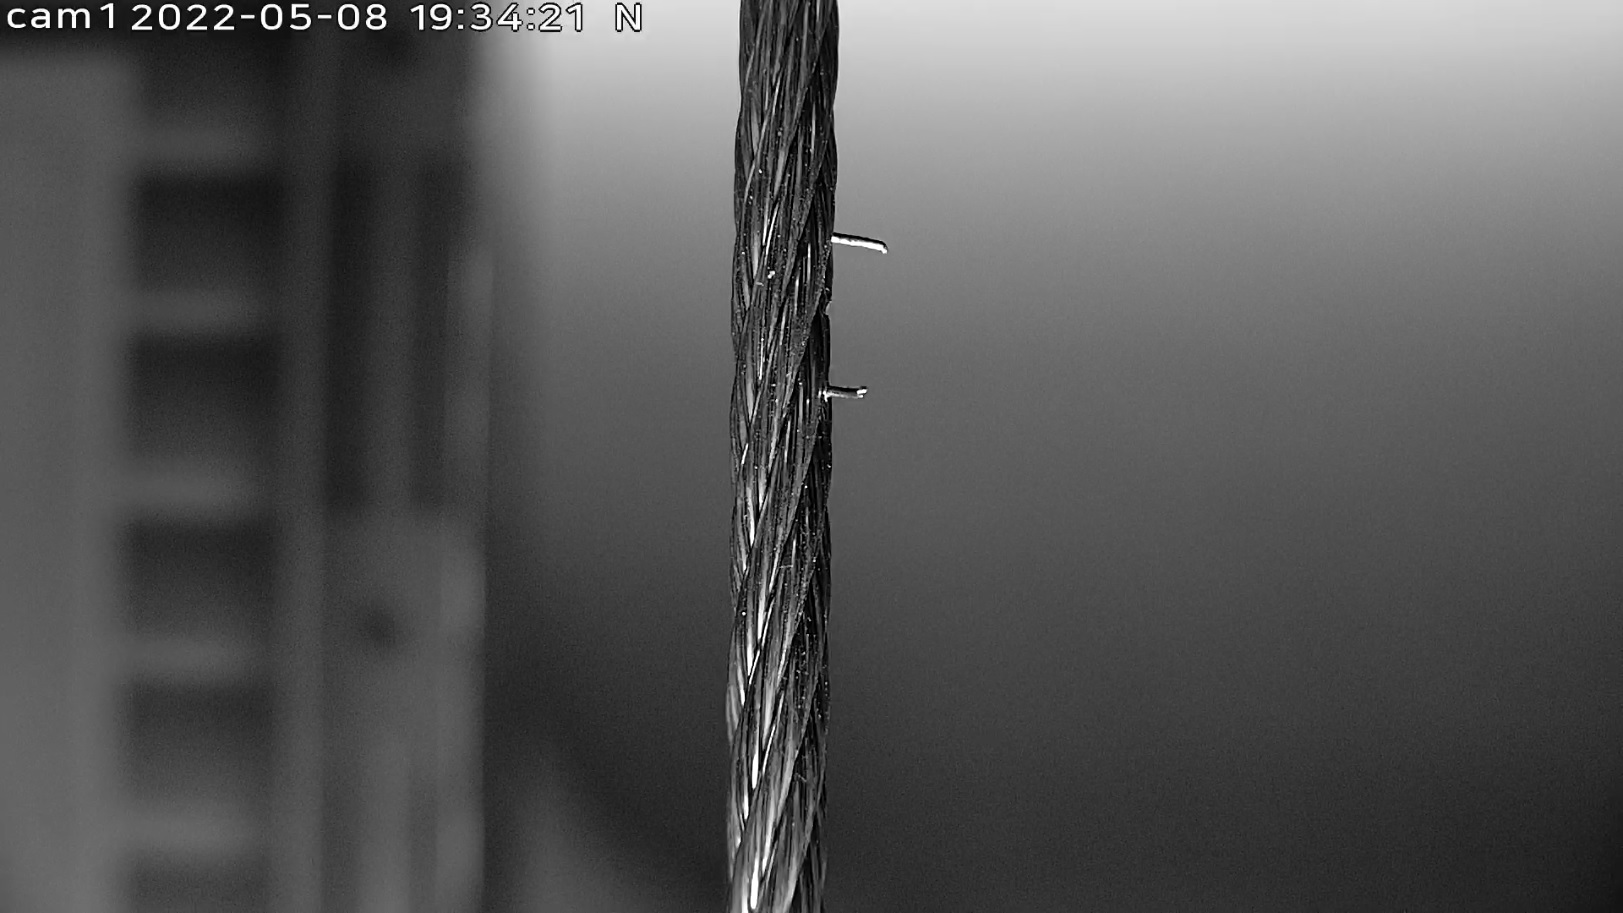gap: (824, 223, 894, 262), (816, 379, 872, 409)
